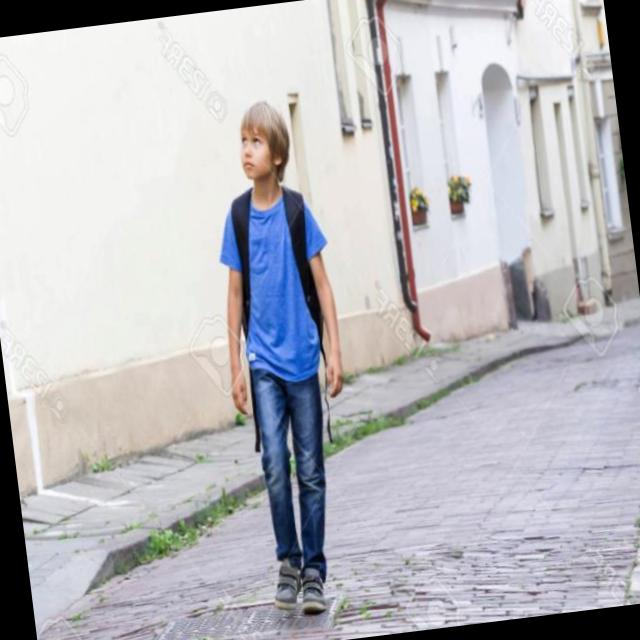person: (183, 79, 392, 624)
